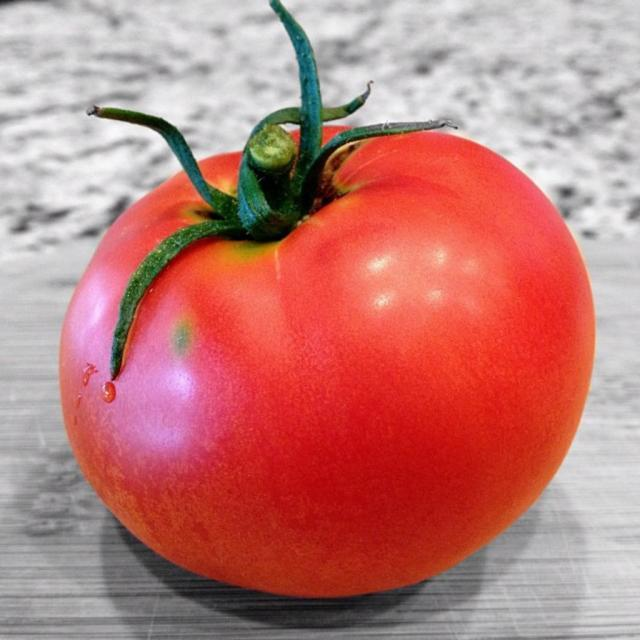Tomato: (47, 0, 596, 599)
